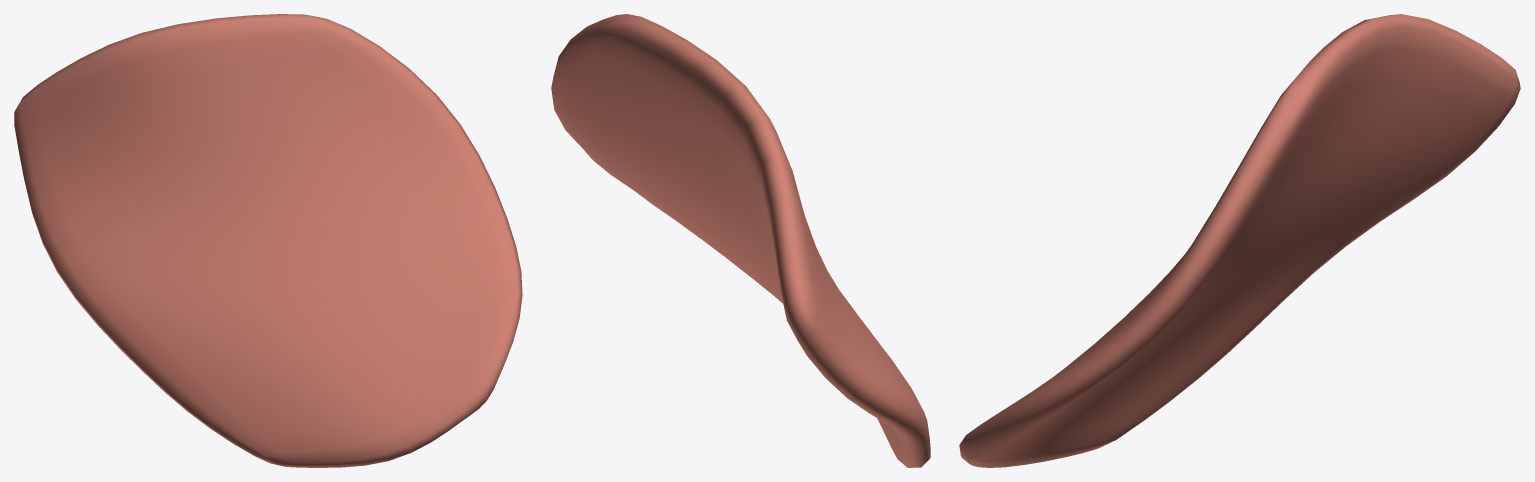
3 views of the same model, side by side, from view 1: azimuth 30°, elevation 25°; view 2: azimuth 150°, elevation 25°; view 3: azimuth 270°, elevation 25° (orthographic). The views are drawn at different scales.
Visible parts, largest first — view 1: 右侧腓肠肌外侧头腱下囊; view 2: 右侧腓肠肌外侧头腱下囊; view 3: 右侧腓肠肌外侧头腱下囊.
Part boxes in pixels (x1,y1,x2,y2): 右侧腓肠肌外侧头腱下囊: (14,14,522,467); 右侧腓肠肌外侧头腱下囊: (551,14,930,467); 右侧腓肠肌外侧头腱下囊: (959,14,1520,467).
Size of the model in its own units: 0.0225 by 0.0225 by 0.0258.
